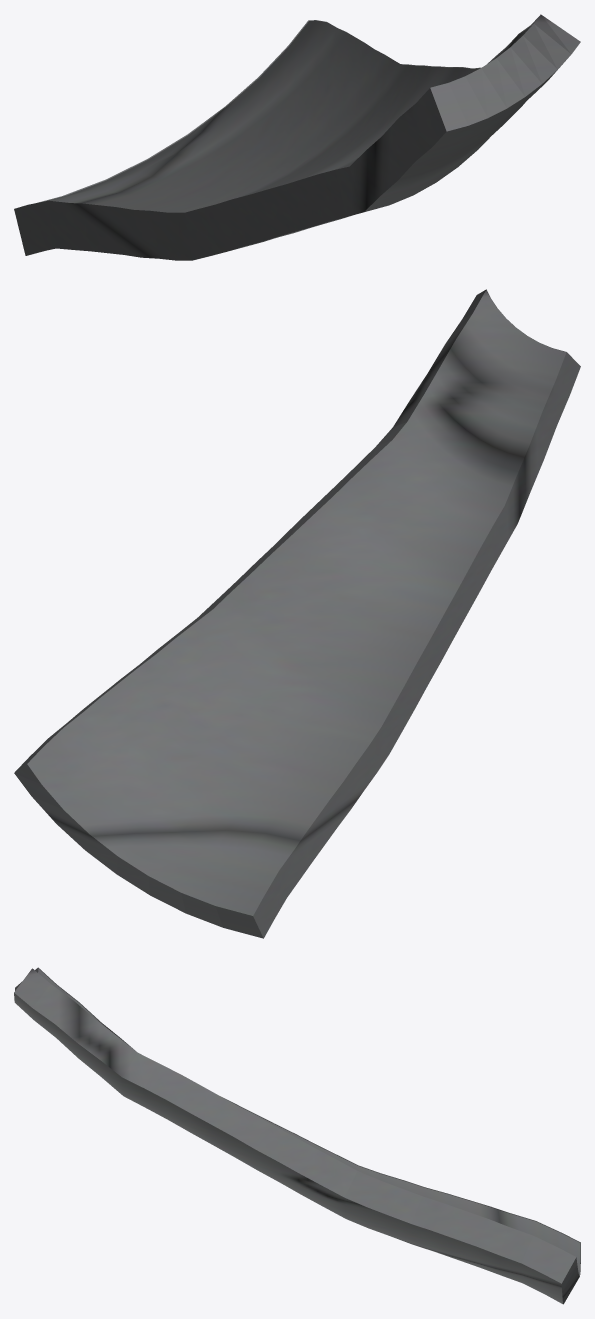
File: mi26_door_r.glb
The picture shows the model from 3 angles, top to bottom: view 1: azimuth 30°, elevation 25°; view 2: azimuth 150°, elevation 25°; view 3: azimuth 270°, elevation 25°; orthographic projection. The views are drawn at different scales.
Visible parts, largest first — view 1: heli_mi26; view 2: heli_mi26; view 3: heli_mi26.
Part boxes in pixels (x1,y1,x2,y2): heli_mi26: (14,14,580,260); heli_mi26: (14,289,580,938); heli_mi26: (14,967,580,1304).
Bounding box in the file's own units: 5.96 × 9.01 × 13.74.
Materials: 3 (3 with a texture image).
